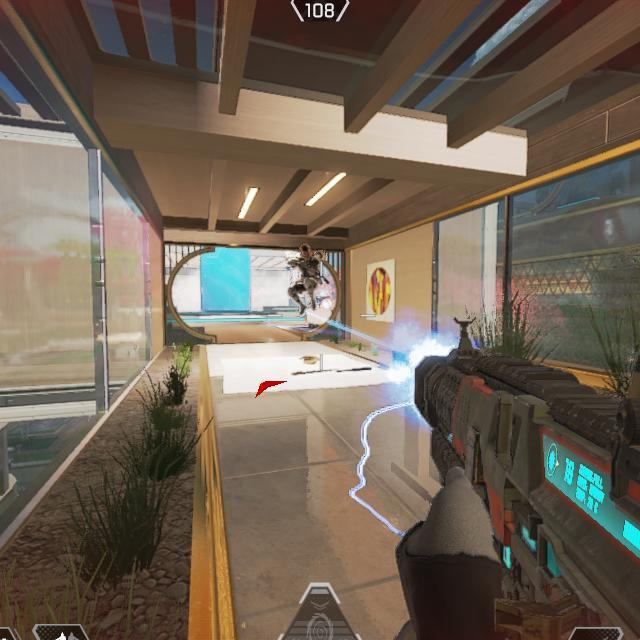avatar: (287, 242, 326, 317)
